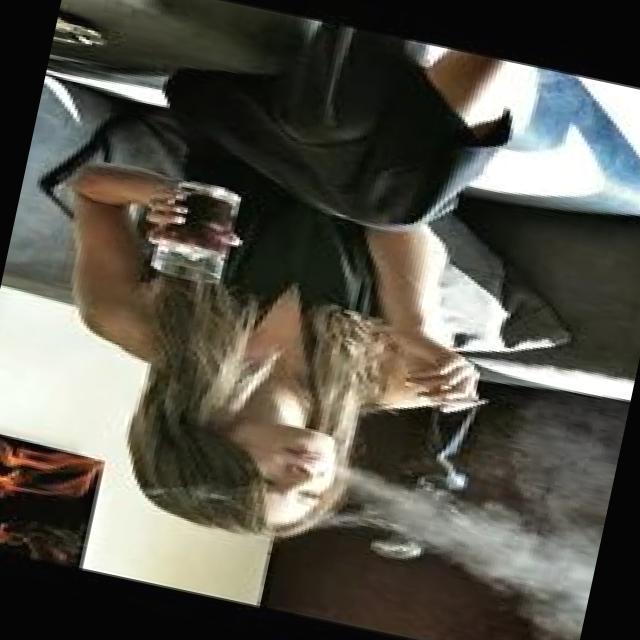cigarette: (432, 384, 503, 423)
